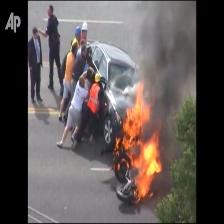fire: (115, 82, 161, 203)
